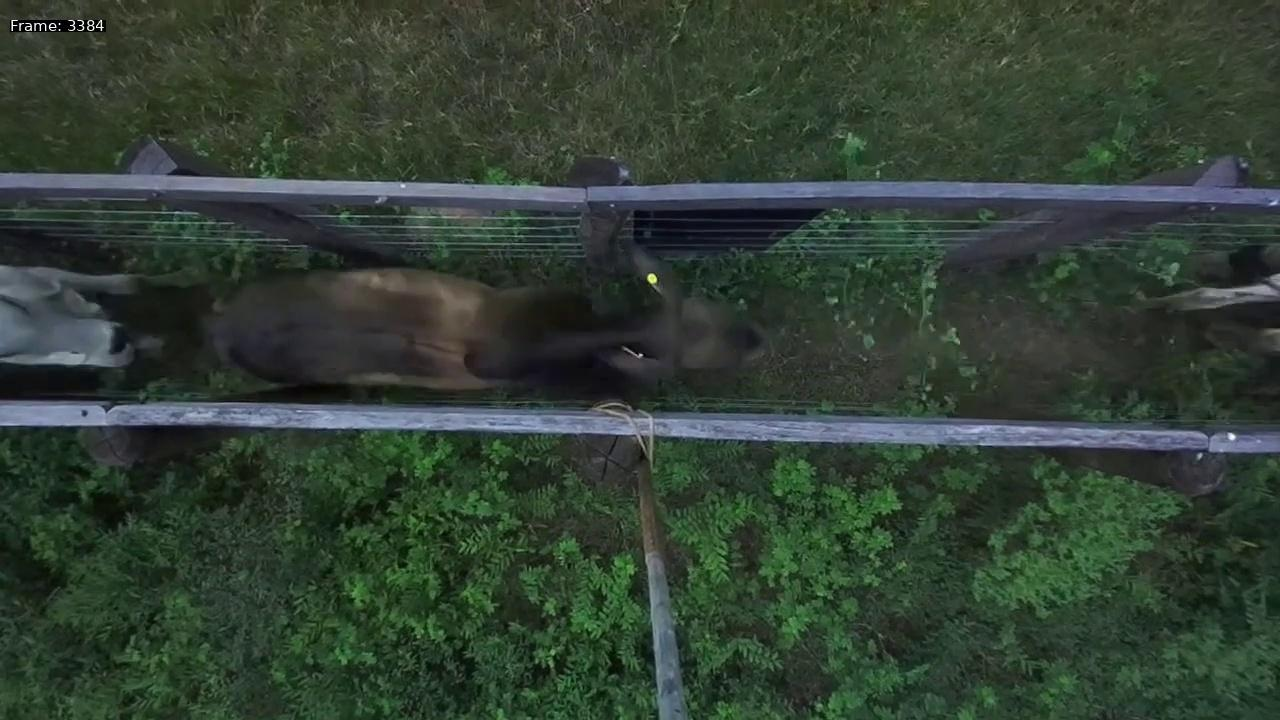cattle: (209, 227, 783, 412)
